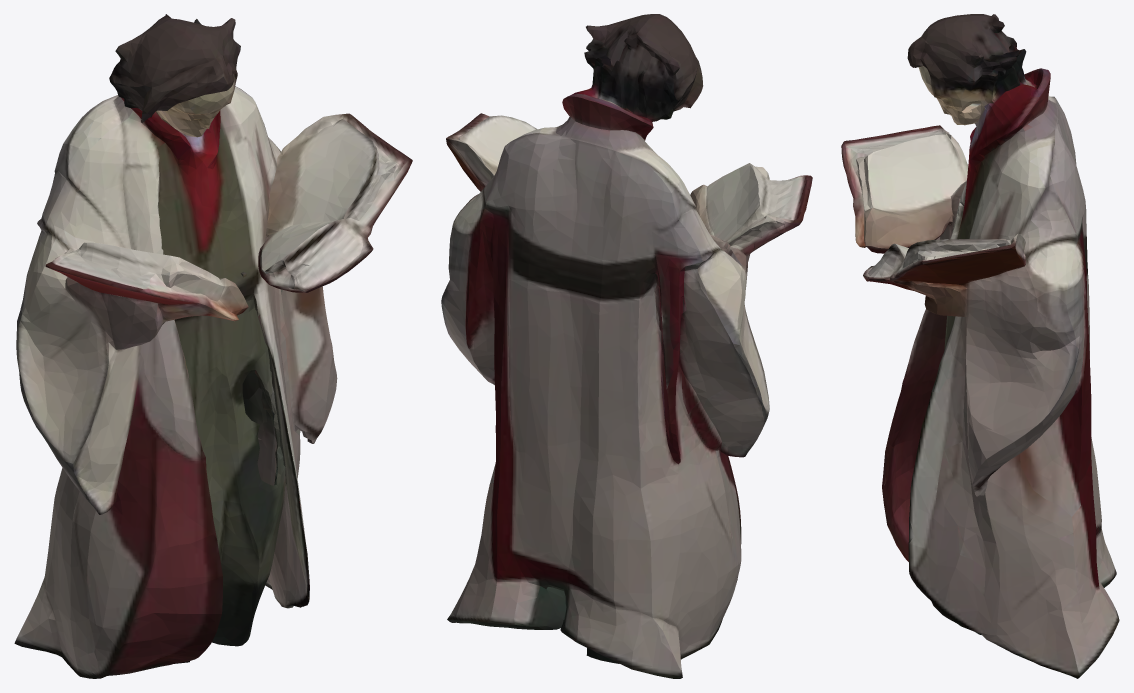
The model's file is anime_industrial_scholar.glb.
The picture shows the model from 3 angles, left to right: view 1: azimuth 30°, elevation 25°; view 2: azimuth 150°, elevation 25°; view 3: azimuth 270°, elevation 25°; orthographic projection. The views are drawn at different scales.
Parts seen in each view (by area): view 1: geometry_0; view 2: geometry_0; view 3: geometry_0.
Part boxes in pixels (x1,y1,x2,y2): geometry_0: (14,14,412,678); geometry_0: (441,14,812,678); geometry_0: (841,14,1119,678).
Size of the model in its own units: 0.5708 by 0.9983 by 0.4193.
Materials: 1 (1 with a texture image).
